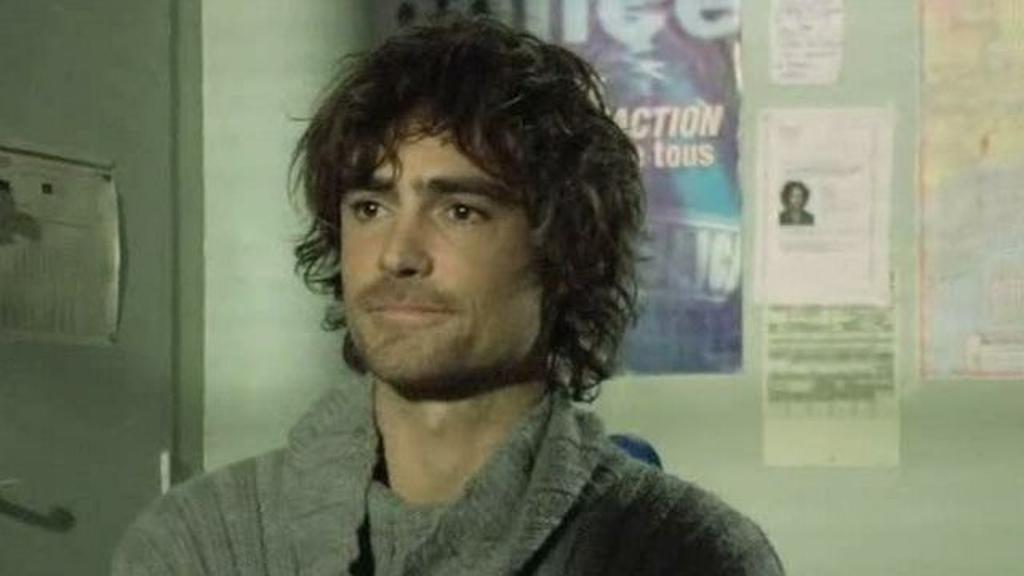face: (342, 100, 546, 376), (788, 186, 805, 211)
